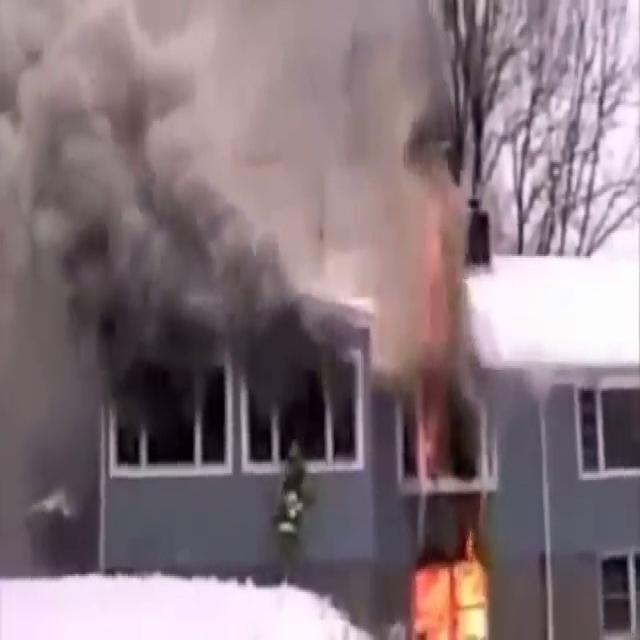Fire: (405, 524, 499, 640)
Smoke: (0, 0, 474, 540)
